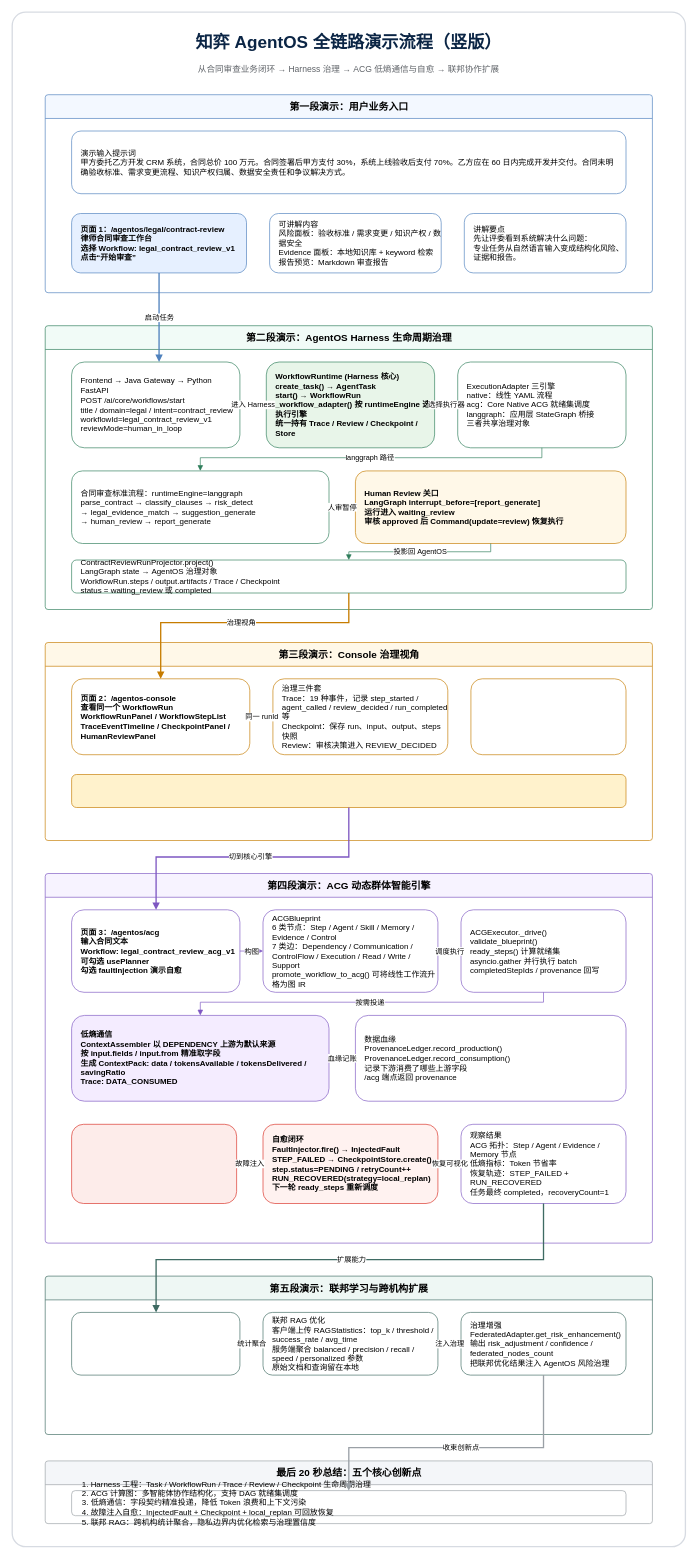
Some shapes in this 697 by 1558 pixel diagram are drawn without their labels. The shapes that lost their labels are listed below. From the top down, each one's centre as x and y in pixels, then its label:
At (548,716): "讲解要点 AgentOS 的价值不是只给答案， 而是让专业任务有运行状态、审核点、恢复点和可导出的黑匣子记录。".
At (348,791): "答辩提示：合同审查页展示业务交付，Console 展示 Harness 工程治理；两者指向同一个 runId。".
At (154,1164): "ACG 自愈演示输入 勾选：注入故障演示自愈 节点：risk_detect 故障类型：模型超时 timeout max_triggers=1".
At (155,1343): "页面 4：/federated-learning 联邦网络拓扑 / 训练曲线 / 模型聚合 / 隐私保护 用于展示跨机构协作能力".
